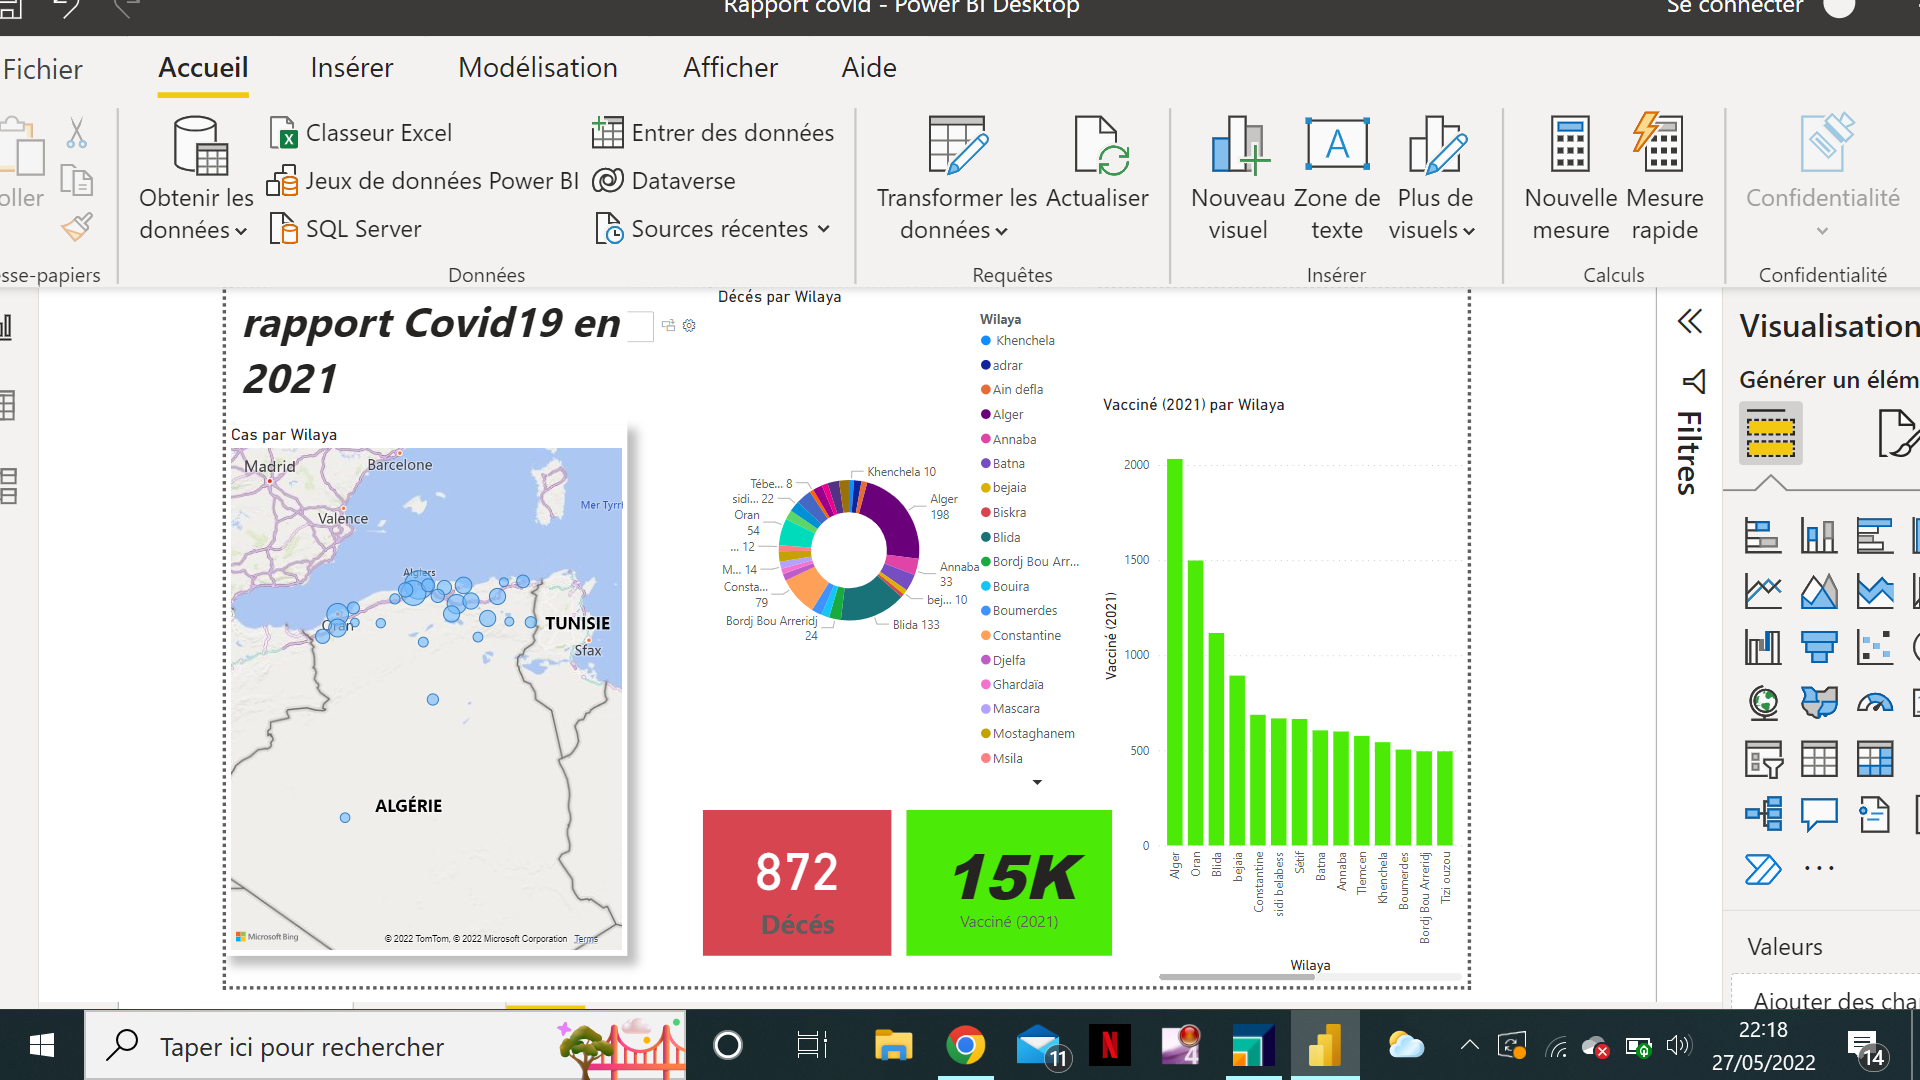

The page's visual inventory and layout, read from the dashboard file:
{"tool":"powerbi","page":{"name":"Rapport covid ","canvas":[1280,720],"ordinal":0},"visuals":[{"type":"map","fields":{"Category":["Covid19 2021 ALG.Wilaya"],"Size":["Sum(Covid19 2021 ALG.Cas)"]},"box":[0,141.9,413.5,547.2],"z":0},{"type":"columnChart","fields":{"Category":["Covid19 2021 ALG.Wilaya"],"Y":["Sum(Covid19 2021 ALG.Vacciné (2021))"]},"box":[899,111.1,380.6,608.9],"z":1000},{"type":"donutChart","fields":{"Y":["Sum(Covid19 2021 ALG.Décés)"],"Series":["Covid19 2021 ALG.Wilaya"]},"box":[502.7,0,396.4,523.4],"z":2000},{"type":"card","fields":{"Values":["Sum(Covid19 2021 ALG.Décés)"]},"box":[492.3,538.9,194.3,150.3],"z":3000},{"type":"card","fields":{"Values":["Sum(Covid19 2021 ALG.Vacciné (2021))"]},"box":[701.5,539,211.9,150.2],"z":4000},{"type":"qnaVisual","box":[46.6,0,445.7,70],"z":5000},{"type":"textbox","box":[10.3,0,403.2,141.9],"z":6000}]}

Visuals, with their boxes in screenshot pixels (x1, y1, x2, y2):
map - Covid19 2021 ALG.Wilaya x Sum(Covid19 2021 ALG.Cas): (x1=0, y1=232, x2=505, y2=1013)
columnChart - Covid19 2021 ALG.Wilaya x Sum(Covid19 2021 ALG.Vacciné (2021)): (x1=1198, y1=189, x2=1741, y2=1057)
donutChart - Sum(Covid19 2021 ALG.Décés) x Covid19 2021 ALG.Wilaya: (x1=632, y1=30, x2=1198, y2=777)
card - Sum(Covid19 2021 ALG.Décés): (x1=617, y1=799, x2=895, y2=1013)
card - Sum(Covid19 2021 ALG.Vacciné (2021)): (x1=916, y1=799, x2=1218, y2=1013)
qnaVisual: (x1=0, y1=30, x2=617, y2=130)
textbox: (x1=0, y1=30, x2=505, y2=232)
